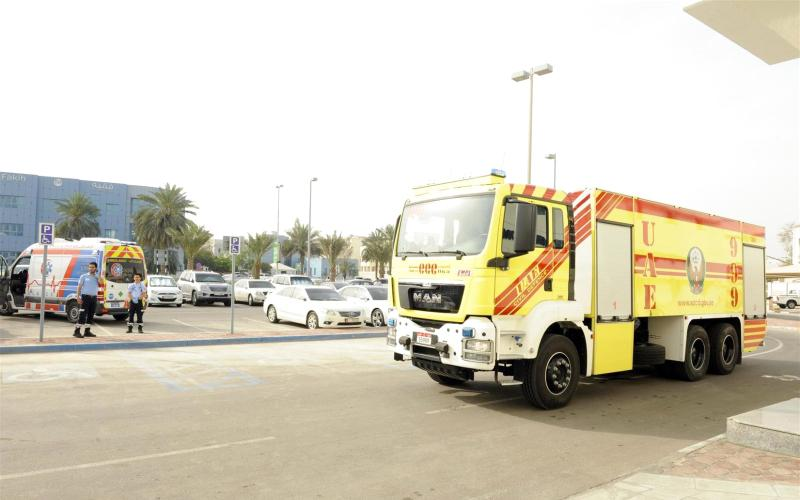ambulance_off: (2, 235, 147, 319)
firetruck_off: (383, 170, 769, 407)
